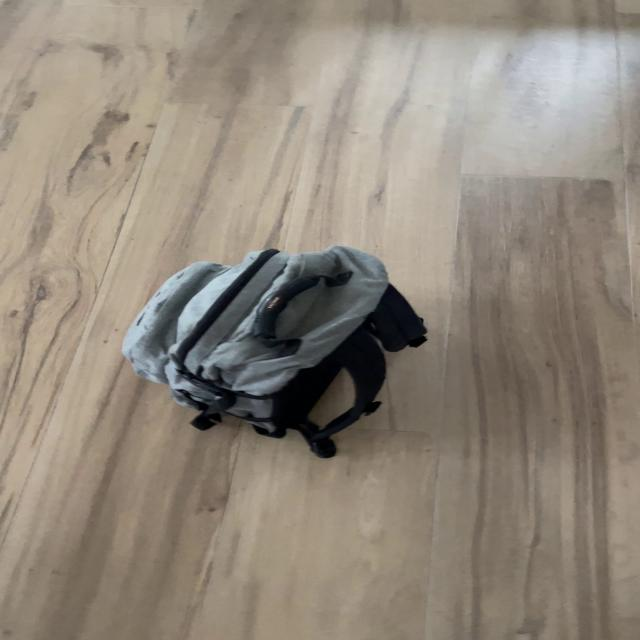backpack: (109, 236, 436, 457)
